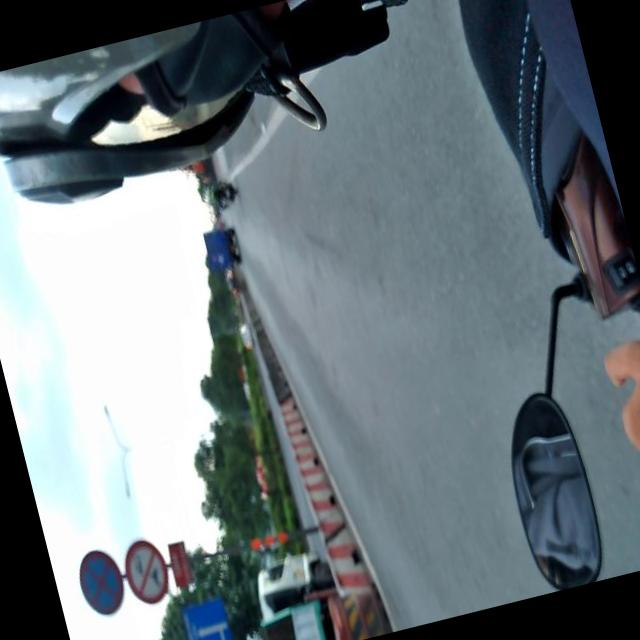P-105: (118, 534, 174, 607)
P-130: (68, 542, 128, 621)
